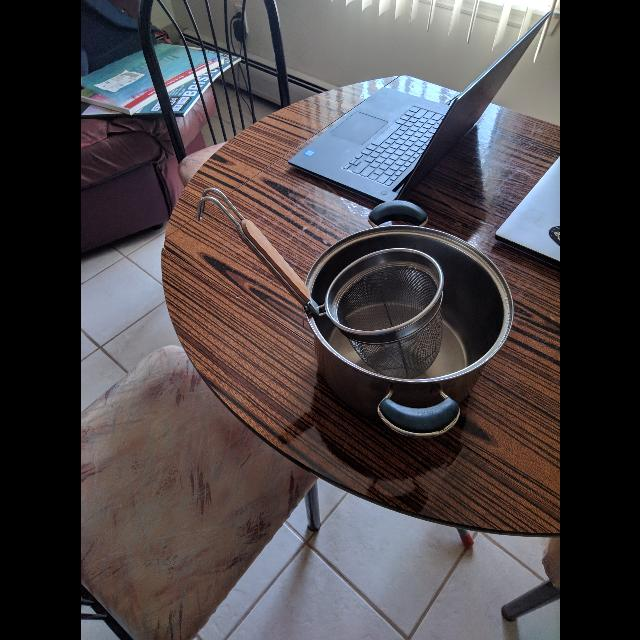Handle: (189, 180, 330, 329)
Strainer: (328, 247, 446, 333)
